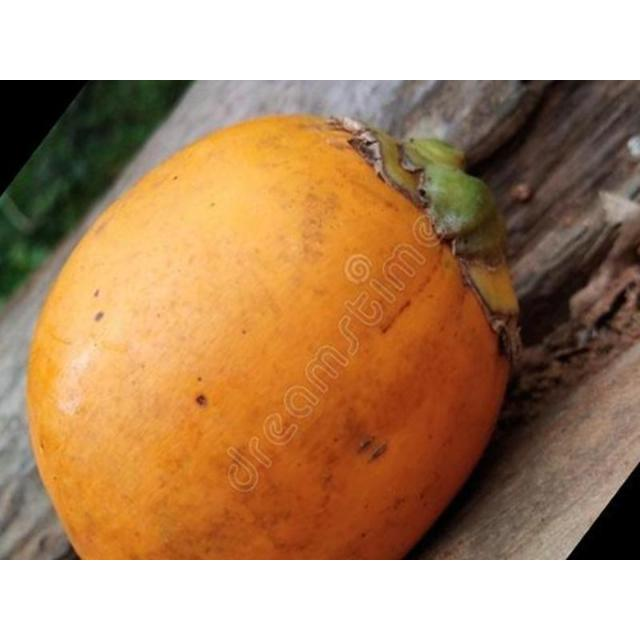good: (20, 114, 516, 559)
